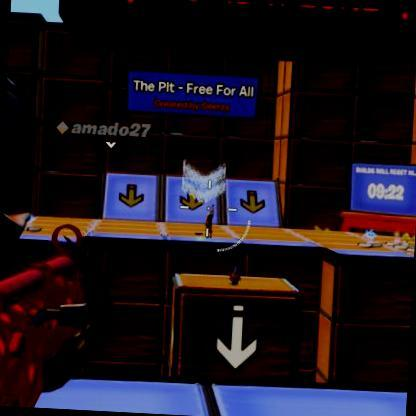person: (206, 216, 215, 235)
